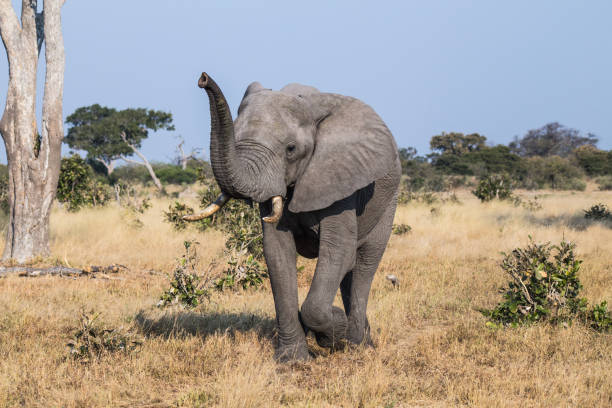africanelephant: (189, 74, 319, 229)
